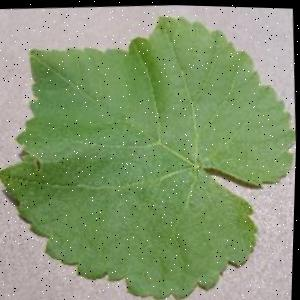Folha: (0, 2, 300, 300)
